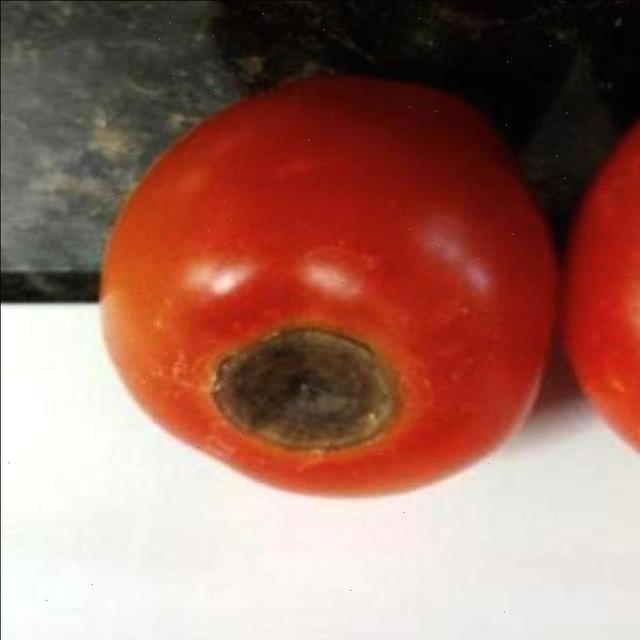Blossom End Rot Fruit: (138, 214, 272, 308)
